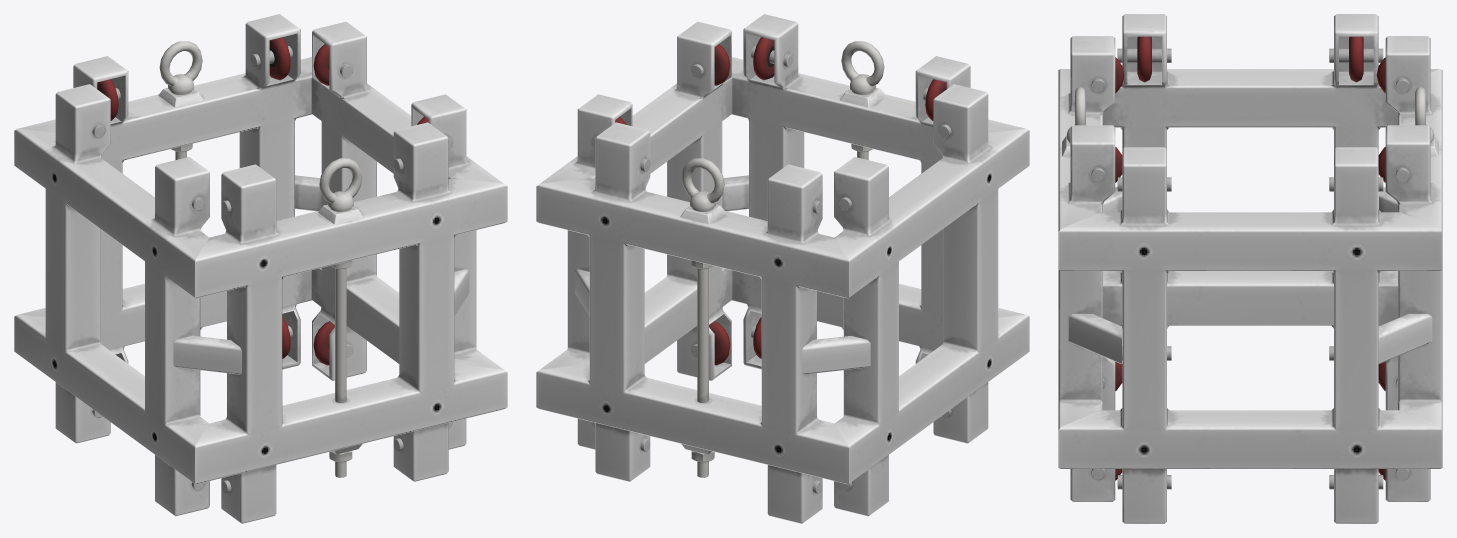
Rendered from SM_Truss_Lift_Sleeve_Block.fbx.
3 renders of one model, left to right at view 1: azimuth 30°, elevation 25°; view 2: azimuth 150°, elevation 25°; view 3: azimuth 270°, elevation 25°, orthographic. The views are drawn at different scales.
Visible parts, largest first — view 1: SM_Truss_Lift_Sleeve_Block_LOD0; view 2: SM_Truss_Lift_Sleeve_Block_LOD0; view 3: SM_Truss_Lift_Sleeve_Block_LOD0.
Part boxes in pixels (x1,y1,x2,y2): SM_Truss_Lift_Sleeve_Block_LOD0: (14,14,507,523); SM_Truss_Lift_Sleeve_Block_LOD0: (536,14,1029,523); SM_Truss_Lift_Sleeve_Block_LOD0: (1058,14,1442,523).
Size of the model in its own units: 54.48 by 54.48 by 56.29.
Materials: 1 (1 with a texture image).
